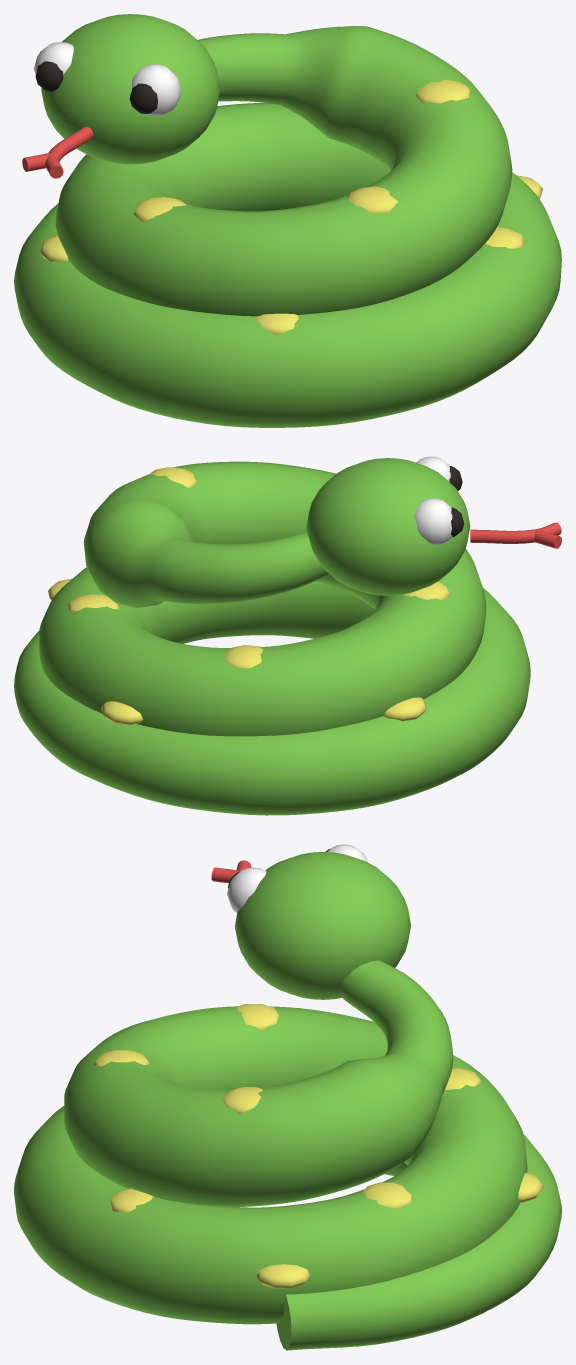
The model's file is snake.glb.
3 renders of one model, top to bottom at view 1: azimuth 30°, elevation 25°; view 2: azimuth 150°, elevation 25°; view 3: azimuth 270°, elevation 25°, orthographic. The views are drawn at different scales.
Parts seen in each view (by area): view 1: body, skull, eyewhite1, pat27, tongue, pat24, eyewhite-1, pat21, eye1, pat9, eye-1, pat12 (+1 smaller); view 2: body, skull, eyewhite-1, tongue, pat18, pat3, pat6, pat15, pat27, pat21; view 3: body, skull, pat0, eyewhite1, pat15, pat21, pat27, pat12.
Boxes of the visible parts, x1,y1,x2,y2 form: body: (14, 26, 561, 427); skull: (41, 14, 220, 164); eyewhite1: (132, 64, 181, 115); pat27: (415, 79, 472, 103); tongue: (45, 126, 93, 178); pat24: (348, 186, 397, 213); eyewhite-1: (33, 42, 73, 75); pat21: (133, 196, 186, 221); eye1: (129, 83, 157, 113); pat9: (255, 313, 298, 334); eye-1: (35, 61, 63, 91); pat12: (485, 227, 523, 248); body: (14, 461, 530, 815); skull: (306, 458, 470, 595); eyewhite-1: (414, 498, 452, 545); tongue: (470, 522, 561, 543); pat18: (225, 645, 263, 668); pat3: (101, 701, 143, 724); pat6: (383, 697, 426, 721); pat15: (67, 594, 119, 611); pat27: (150, 467, 197, 487); pat21: (401, 581, 450, 600); body: (14, 960, 561, 1350); skull: (235, 852, 410, 999); pat0: (256, 1264, 310, 1288); eyewhite1: (227, 867, 266, 912); pat15: (362, 1182, 411, 1209); pat21: (237, 1004, 278, 1030); pat27: (223, 1087, 262, 1114); pat12: (110, 1188, 154, 1212).
Size of the model in its own units: 1.04 by 0.6074 by 0.9322.
